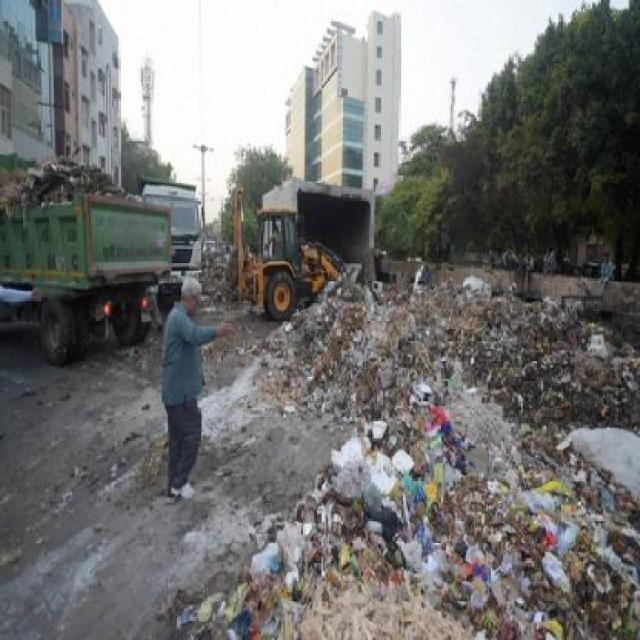garbage: (259, 515, 618, 626), (335, 411, 453, 561), (472, 462, 613, 530)
